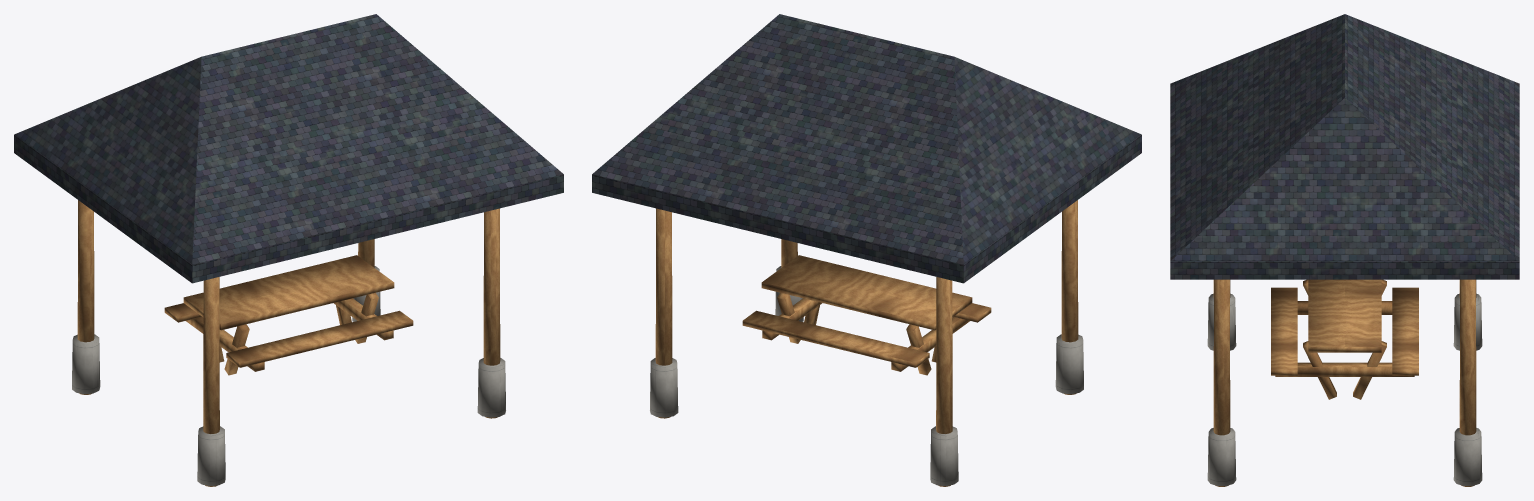
The model's file is playground_pavilion.glb.
The picture shows the model from 3 angles, left to right: view 1: azimuth 30°, elevation 25°; view 2: azimuth 150°, elevation 25°; view 3: azimuth 270°, elevation 25°; orthographic projection.
Parts seen in each view (by area): view 1: Pavilion_roof, Pavilion_wood, Pavilion_conc; view 2: Pavilion_roof, Pavilion_wood, Pavilion_conc; view 3: Pavilion_roof, Pavilion_wood, Pavilion_conc.
Part boxes in pixels (box(x1,y1,x2,y2)): Pavilion_roof: box(14, 14, 563, 283); Pavilion_wood: box(77, 200, 500, 486); Pavilion_conc: box(72, 266, 505, 485); Pavilion_roof: box(592, 14, 1141, 283); Pavilion_wood: box(655, 200, 1078, 486); Pavilion_conc: box(650, 266, 1083, 485); Pavilion_roof: box(1170, 14, 1519, 279); Pavilion_wood: box(1213, 279, 1476, 486); Pavilion_conc: box(1207, 293, 1482, 485).
Size of the model in its own units: 4.72 by 4.46 by 3.92.
3 materials, 3 textured.
